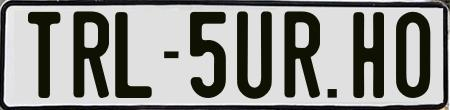0: (393, 11, 431, 102)
5: (188, 10, 225, 97)
H: (351, 11, 383, 97)
L: (115, 12, 158, 98)
R: (281, 9, 319, 102), (70, 8, 108, 95)
T: (26, 10, 58, 96)
U: (234, 11, 269, 105)
